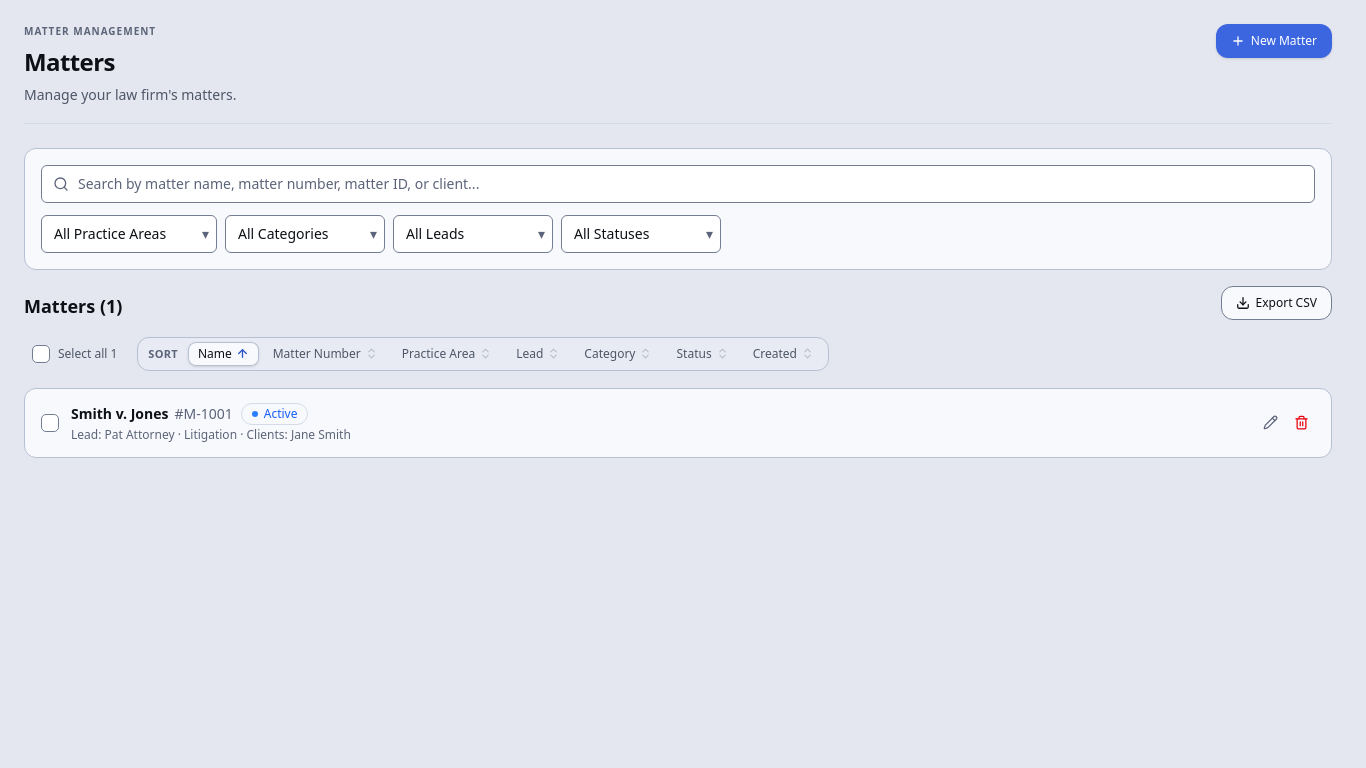
it: a successful action: deleting a matter › removes the matter and refreshes the list
The image size is (1366, 768).
Check: the text "Smith v. Jones" is shown, box left=71, top=404, right=168, bottom=423
Click the button named "Delete": (1302, 423) left=1288, top=409, right=1315, bottom=436
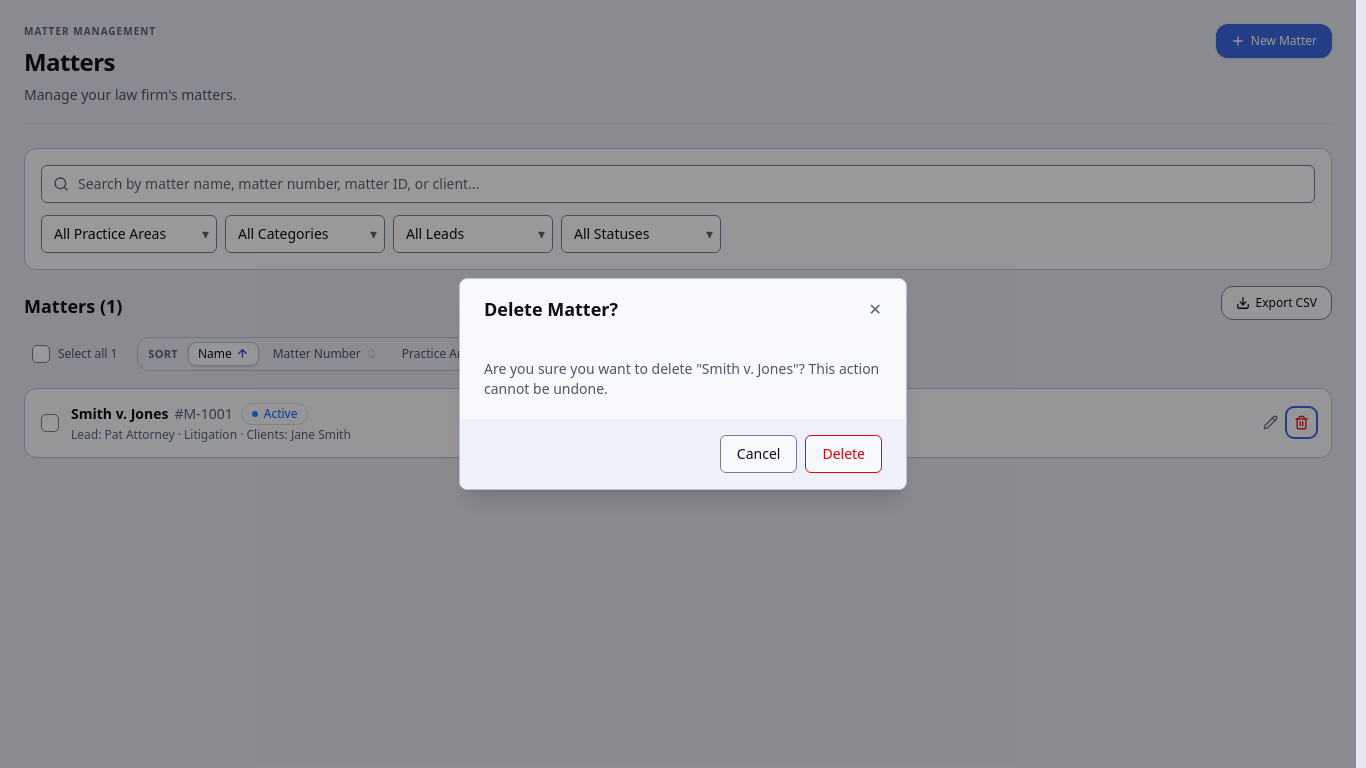
Check: the text "Smith v. Jones" is shown, box left=484, top=359, right=879, bottom=398
Click the button "Delete": (844, 454) left=805, top=435, right=882, bottom=473
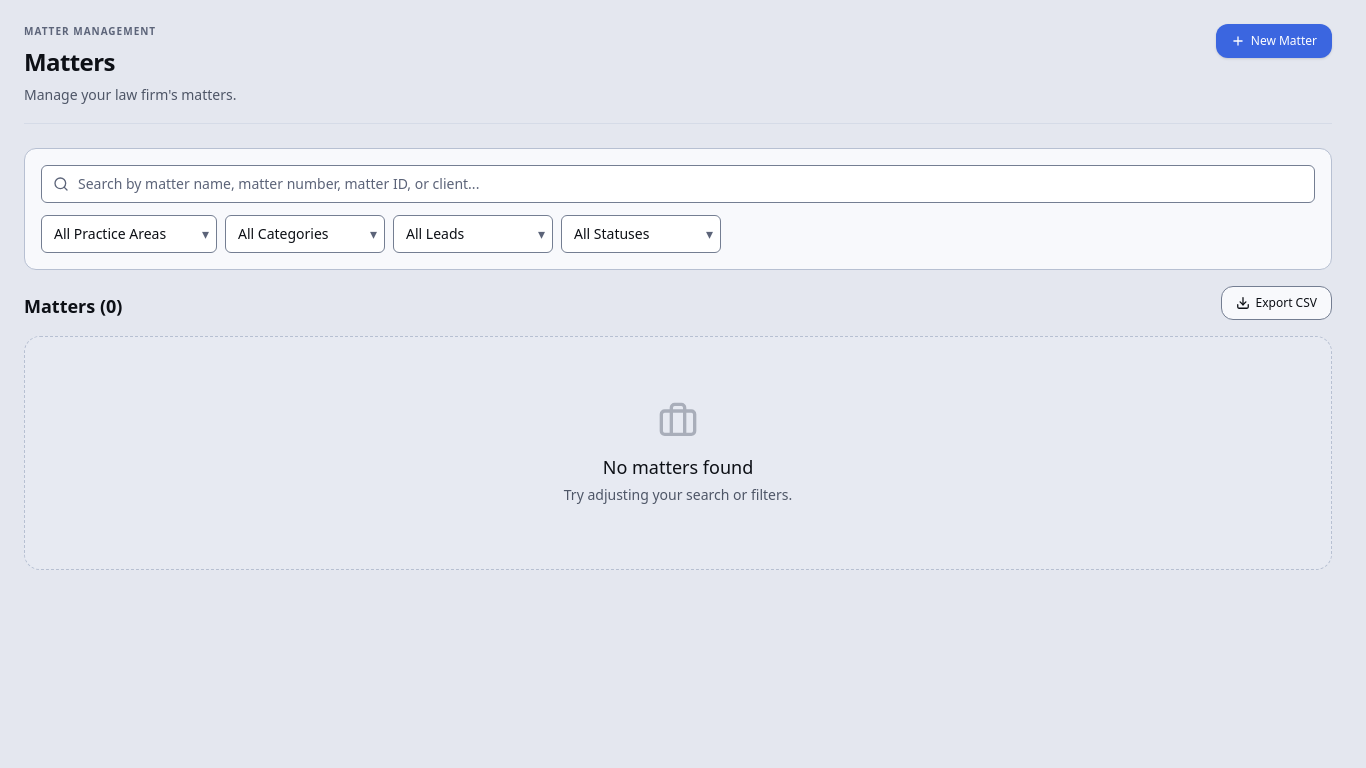
Check: the text "Smith v. Jones" is gone
Check: the text "No matters found" is shown, box left=603, top=455, right=753, bottom=479
